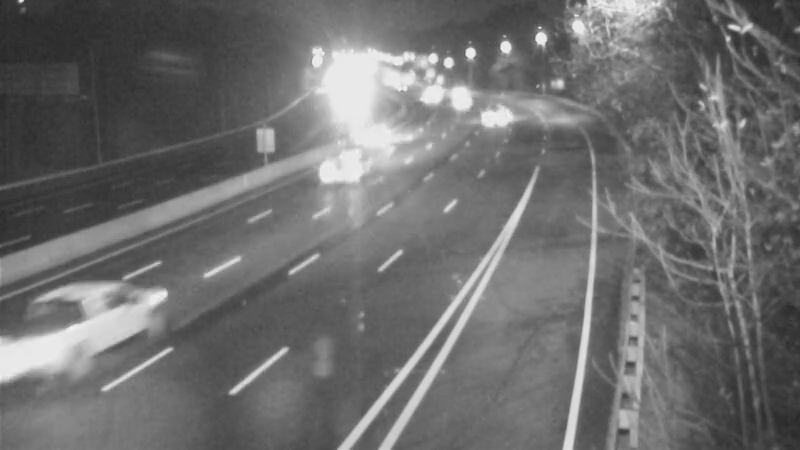vehicle: (1, 298, 93, 408), (306, 130, 386, 210), (472, 96, 522, 146), (349, 116, 399, 166)
